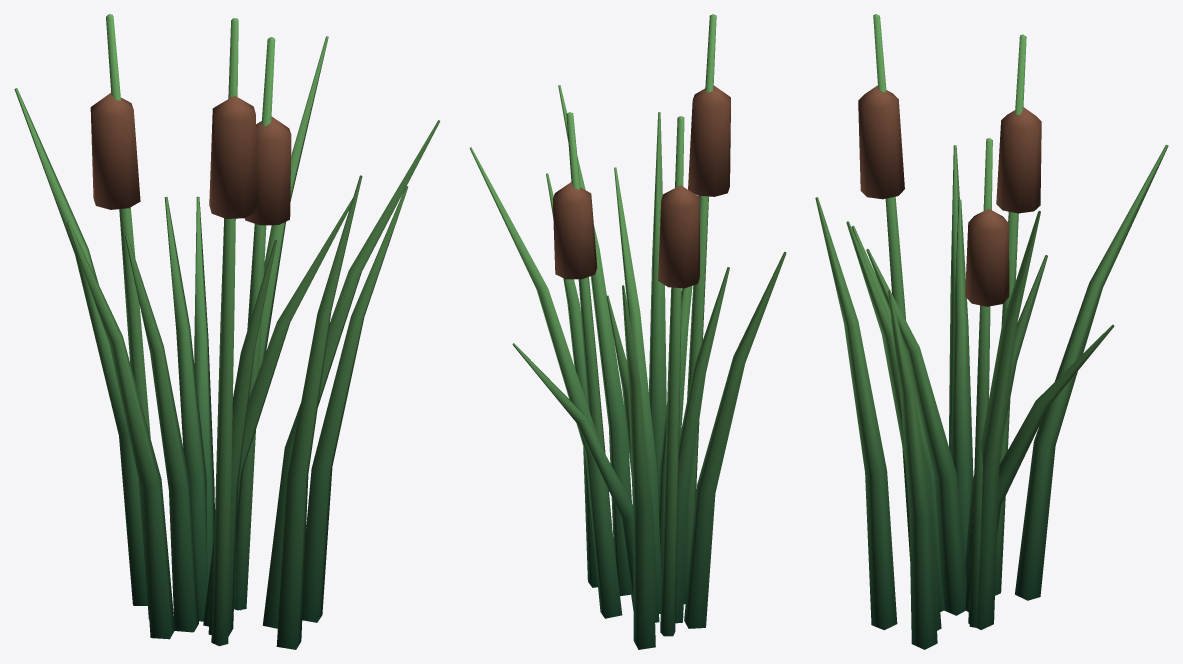
File: reed.glb
3 views of the same model, side by side, from view 1: azimuth 30°, elevation 25°; view 2: azimuth 150°, elevation 25°; view 3: azimuth 270°, elevation 25° (orthographic). The views are drawn at different scales.
Parts seen in each view (by area): view 1: reed_body; view 2: reed_body; view 3: reed_body.
Part boxes in pixels (x1=…): reed_body: x1=14, y1=14, x2=440, y2=649; reed_body: x1=469, y1=14, x2=786, y2=649; reed_body: x1=815, y1=14, x2=1168, y2=649.
Bounding box in the file's own units: 0.8946 × 1.75 × 0.9562.
